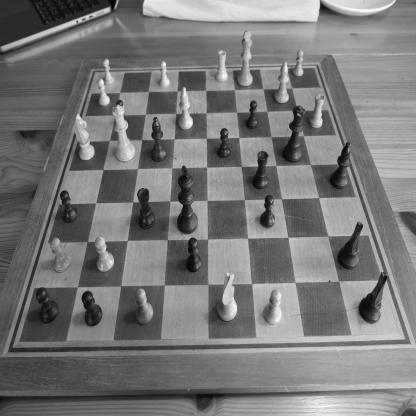black-bishop: (330, 141, 351, 190), (150, 116, 168, 163)
black-king: (177, 164, 198, 235)
black-knight: (358, 270, 388, 324), (338, 220, 364, 270)
black-pawn: (35, 286, 60, 325), (81, 290, 103, 327), (60, 190, 79, 224), (186, 237, 202, 273), (260, 194, 276, 228), (217, 128, 231, 158), (246, 99, 259, 130), (116, 98, 129, 127)
black-queen: (282, 105, 306, 164)
black-rook: (137, 187, 156, 230), (252, 150, 269, 190)
white-bishop: (177, 86, 194, 131), (274, 60, 290, 104)
white-king: (236, 29, 254, 87)
white-knight: (216, 271, 238, 322), (73, 113, 95, 161)
white-pawn: (50, 237, 72, 274), (94, 236, 115, 273), (135, 288, 154, 326), (263, 289, 282, 325), (98, 78, 110, 108), (102, 58, 115, 85), (292, 49, 304, 77), (158, 61, 170, 88)
white-queen: (112, 104, 136, 163)
white-rook: (308, 93, 325, 129), (215, 50, 228, 83)
